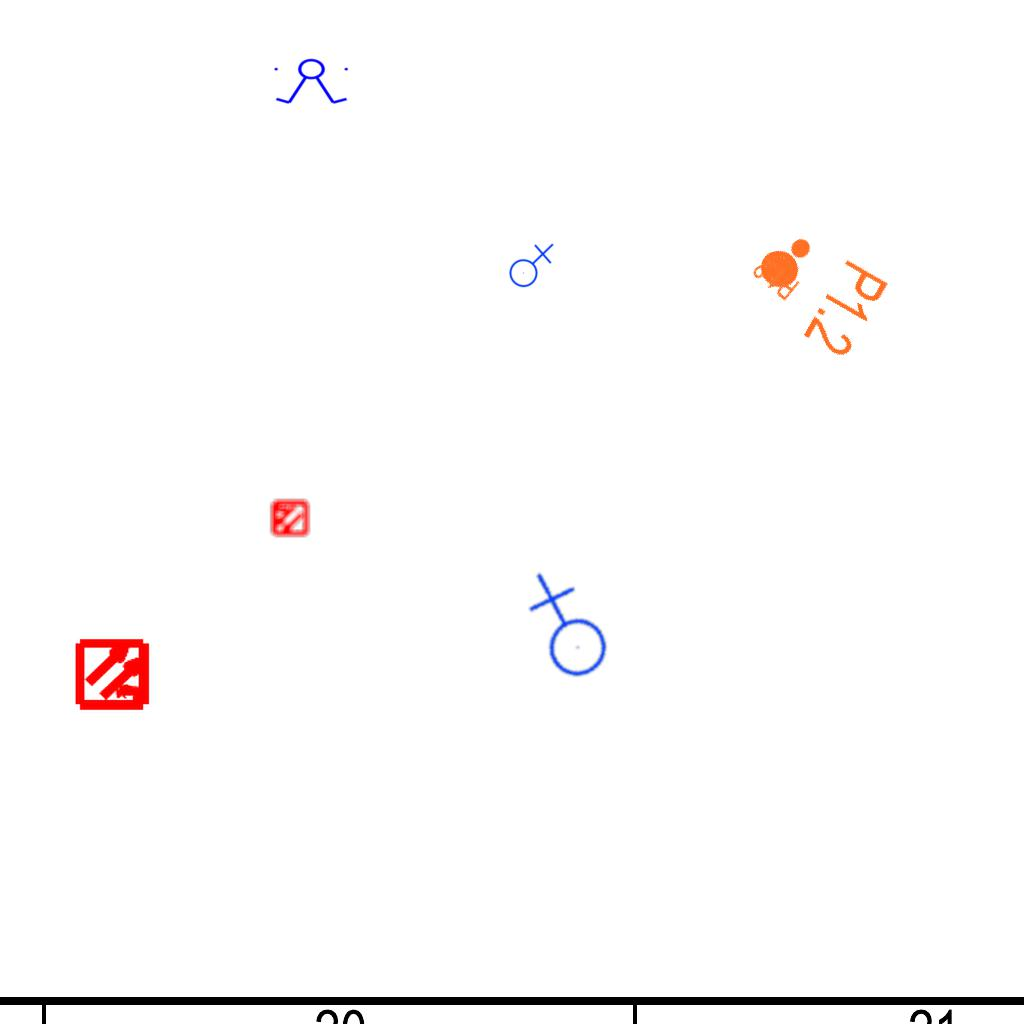Downlight_LED_Einbauleuchten_Flur: (735, 218, 894, 364), (748, 224, 826, 304)
Elektroanschluss_allgemein_230V_Geraeteanschlussdose_230V: (505, 570, 624, 692), (505, 241, 554, 288)
OT_Multisensormelder_(Kombination_RMO_WMD): (58, 618, 171, 731), (261, 490, 317, 546)
Serienschalter: (270, 58, 354, 106)
